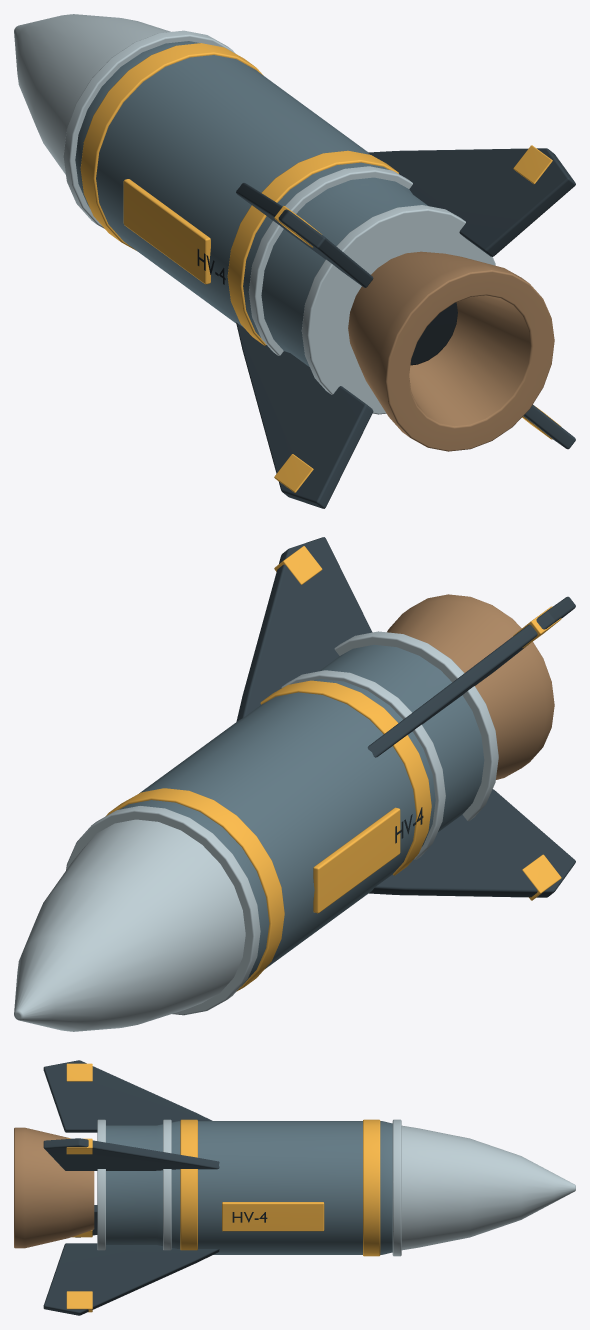
The model's file is hv4_havoc_missile.glb.
The picture shows the model from 3 angles, top to bottom: view 1: azimuth 30°, elevation 25°; view 2: azimuth 150°, elevation 25°; view 3: azimuth 270°, elevation 25°; orthographic projection. The views are drawn at different scales.
Visible parts, largest first — view 1: HV4_Havoc_FlightMesh; view 2: HV4_Havoc_FlightMesh; view 3: HV4_Havoc_FlightMesh.
Boxes of the visible parts, left/top/right/bottom form: HV4_Havoc_FlightMesh: left=14, top=14, right=575, bottom=508; HV4_Havoc_FlightMesh: left=14, top=537, right=575, bottom=1031; HV4_Havoc_FlightMesh: left=14, top=1060, right=575, bottom=1315.
Bounding box in the file's own units: 0.2681 × 0.2681 × 0.77.
